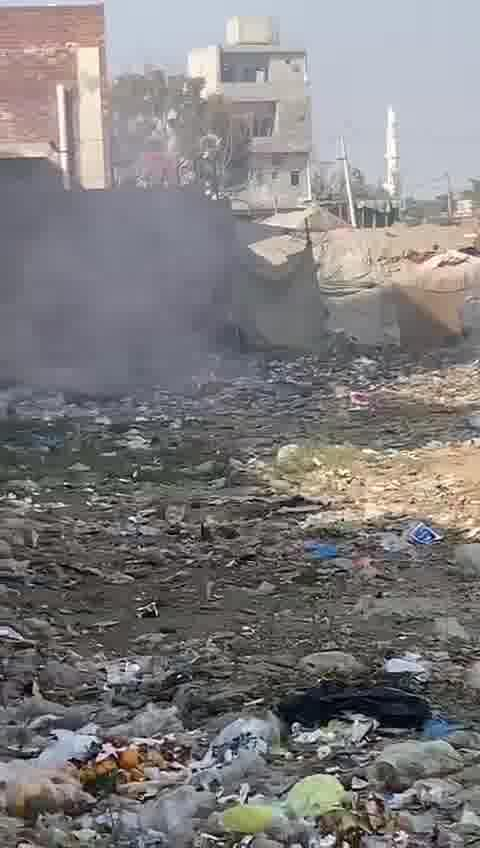garbage: (0, 380, 480, 848)
